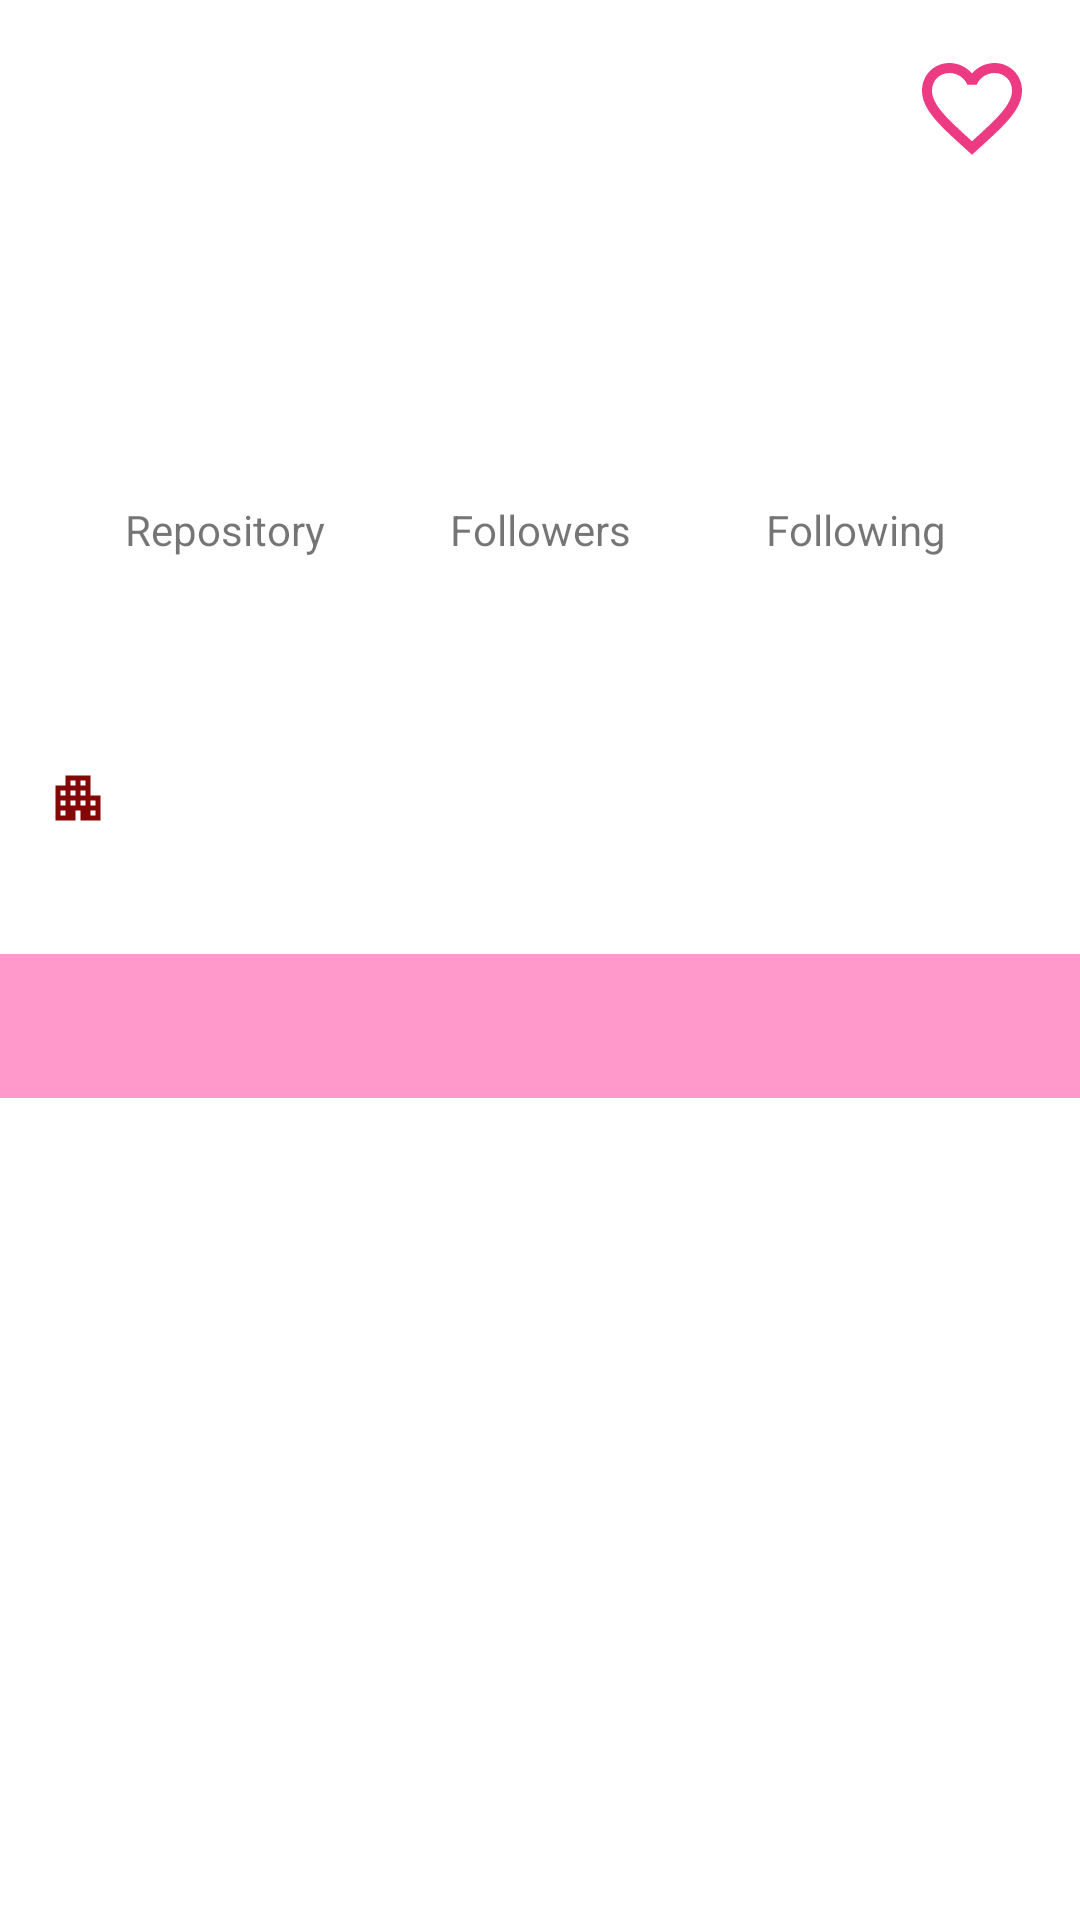

Screen size 1080 x 1920. Icon name, then its box in pixels as (x1, y1, x2, y2):
company: (55, 775, 101, 821)
